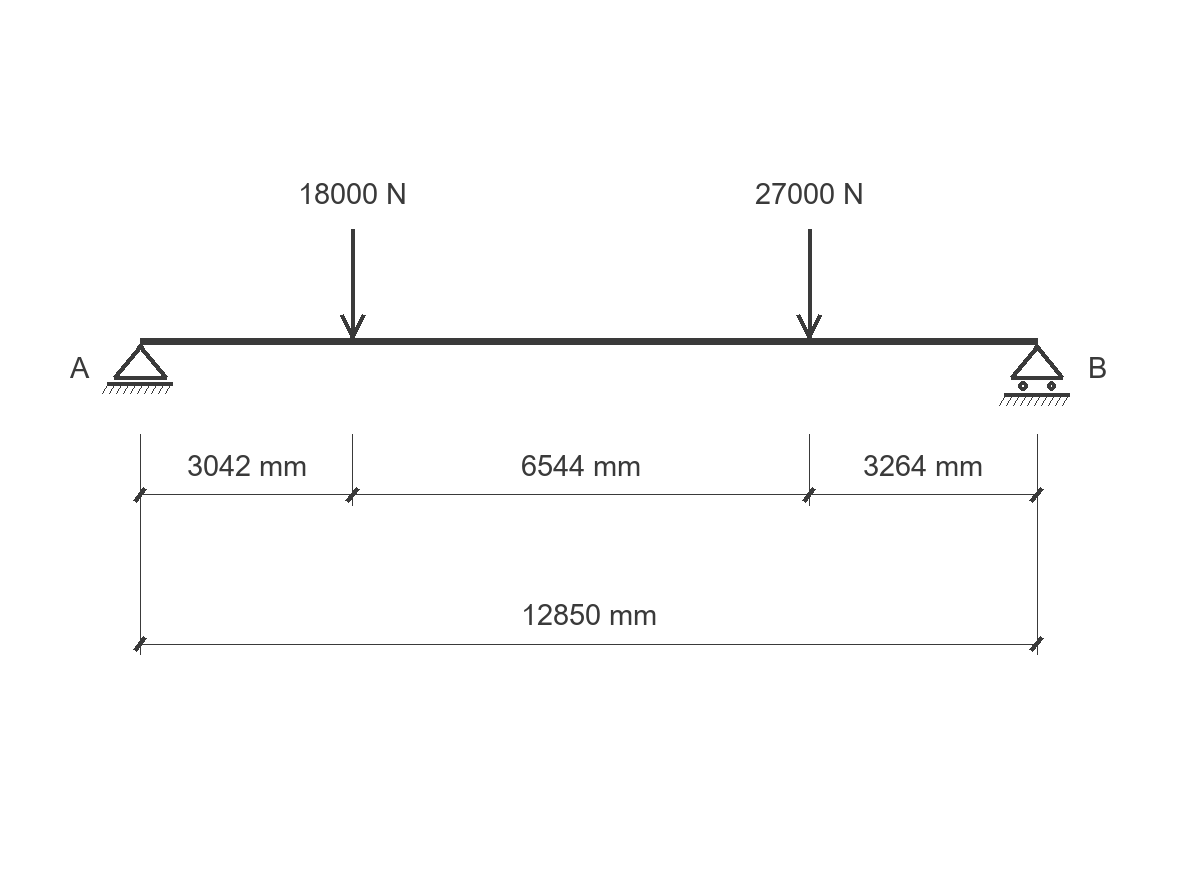pin_support: (102, 344, 173, 394)
point_load: (340, 229, 366, 339), (796, 229, 822, 339)
roller_support: (999, 344, 1070, 406)
